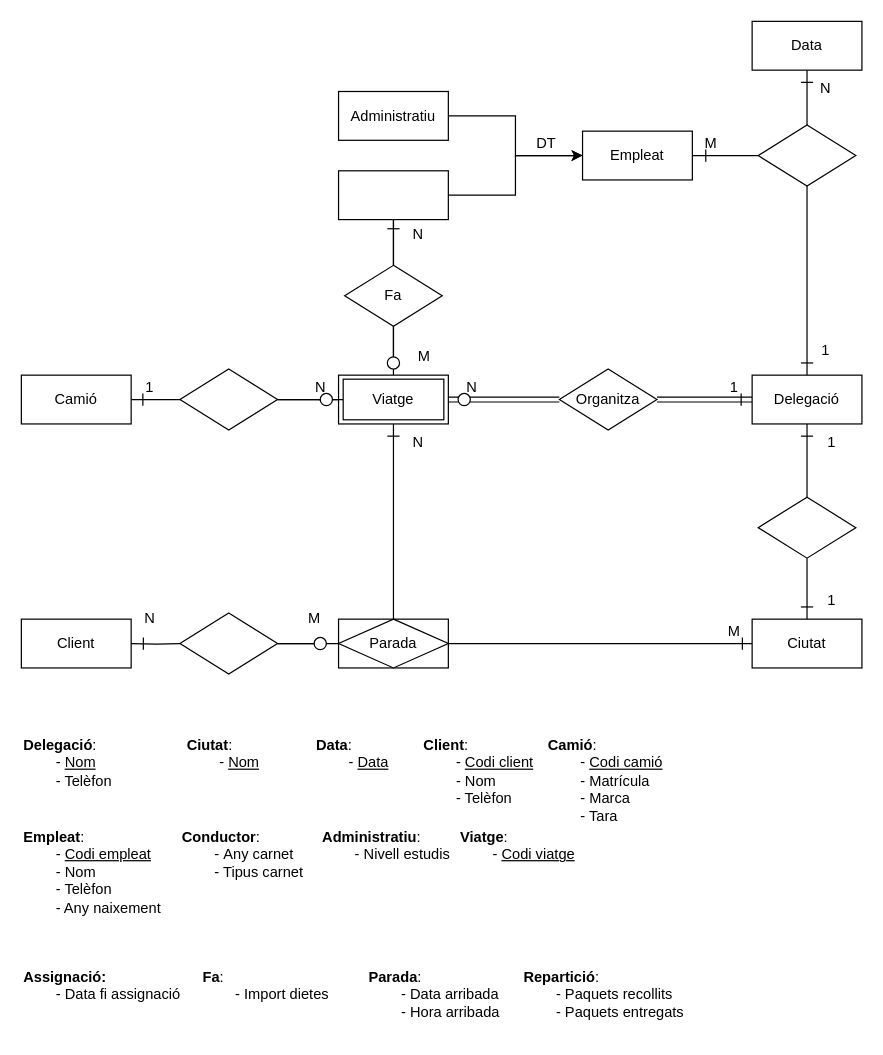
Image size: 883x1055. Some labels were removed from this diagram. The centre of each missing label's shape, as x and y in pixels:
"Assignació" goes at point (806, 155).
"Conductor" goes at point (392, 195).
"Repartició" goes at point (228, 643).
"Situada" goes at point (806, 527).
"Utilitza" goes at point (228, 399).
